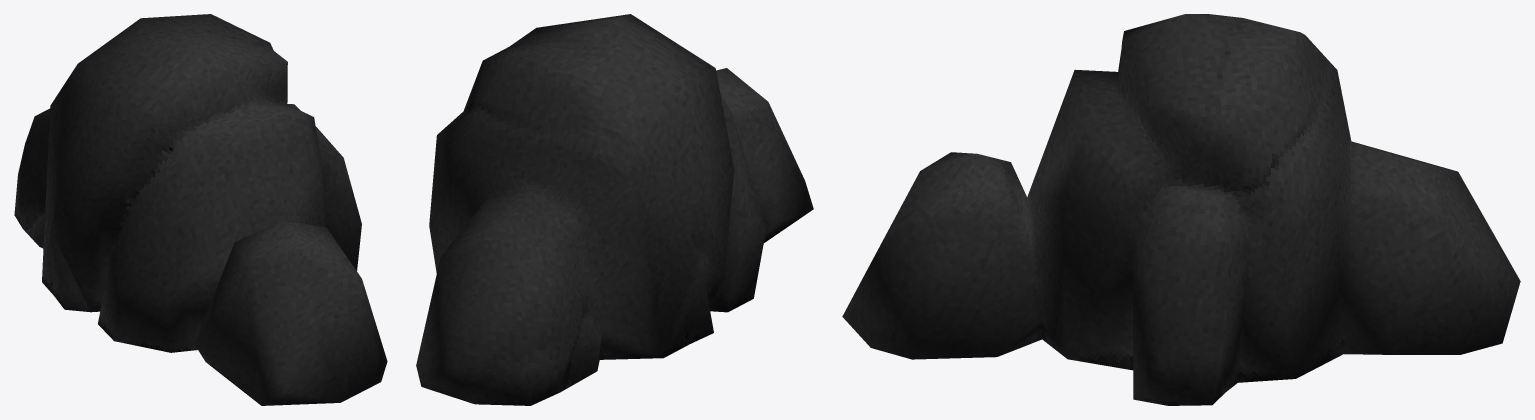
File: rock_3.glb
3 renders of one model, left to right at view 1: azimuth 30°, elevation 25°; view 2: azimuth 150°, elevation 25°; view 3: azimuth 270°, elevation 25°, orthographic. The views are drawn at different scales.
Parts seen in each view (by area): view 1: Rock; view 2: Rock; view 3: Rock.
Part boxes in pixels (box(x1,y1,x2,y2)): Rock: box(14, 14, 387, 405); Rock: box(416, 14, 813, 405); Rock: box(842, 14, 1520, 405).
Size of what is drawn, in the model's own units: 2.21 by 2 by 4.04.
1 material, 1 textured.
